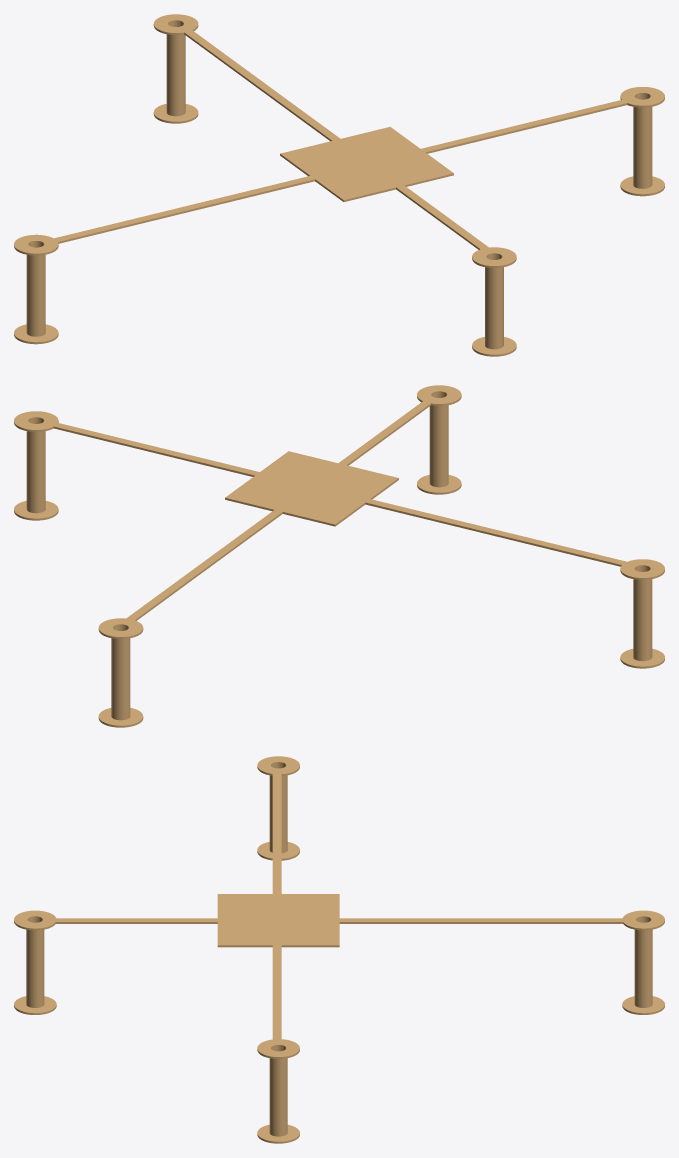
The model's file is board.glb.
3 views of the same model, one above another, from view 1: azimuth 30°, elevation 25°; view 2: azimuth 150°, elevation 25°; view 3: azimuth 270°, elevation 25° (orthographic). The views are drawn at different scales.
Parts seen in each view (by area): view 1: Unified_Net_5_Island_15, Unified_Net_8_Island_6, Bare_Via_Tube_4, Bare_Via_Tube_3, Bare_Via_Tube_2, Unified_Net_6_Island_12, Bare_Via_Tube_1, Unified_Net_7_Island_9, Unified_Net_1_Island_4, Unified_Net_4_Island_7, Unified_Net_3_Island_10, Unified_Net_2_Island_13 (+4 smaller); view 2: Unified_Net_5_Island_15, Unified_Net_8_Island_6, Bare_Via_Tube_3, Bare_Via_Tube_4, Bare_Via_Tube_1, Bare_Via_Tube_2, Unified_Net_6_Island_12, Unified_Net_7_Island_9, Unified_Net_4_Island_7, Unified_Net_2_Island_13, Unified_Net_1_Island_4, Unified_Net_3_Island_10 (+4 smaller); view 3: Unified_Net_5_Island_15, Unified_Net_6_Island_12, Bare_Via_Tube_3, Bare_Via_Tube_1, Bare_Via_Tube_2, Unified_Net_8_Island_6, Unified_Net_7_Island_9, Bare_Via_Tube_4, Unified_Net_1_Island_4, Unified_Net_3_Island_10, Unified_Net_2_Island_13, Unified_Net_4_Island_7.
Boxes of the visible parts, bbox=[...] form: Unified_Net_5_Island_15: bbox=[280, 127, 495, 253]; Unified_Net_8_Island_6: bbox=[43, 176, 314, 244]; Bare_Via_Tube_4: bbox=[26, 241, 45, 336]; Bare_Via_Tube_3: bbox=[633, 93, 652, 188]; Bare_Via_Tube_2: bbox=[166, 20, 185, 116]; Unified_Net_6_Island_12: bbox=[178, 25, 340, 141]; Bare_Via_Tube_1: bbox=[485, 253, 503, 349]; Unified_Net_7_Island_9: bbox=[421, 97, 637, 153]; Unified_Net_1_Island_4: bbox=[472, 247, 516, 267]; Unified_Net_4_Island_7: bbox=[14, 234, 58, 255]; Unified_Net_3_Island_10: bbox=[620, 87, 664, 107]; Unified_Net_2_Island_13: bbox=[153, 14, 198, 34]; Unified_Net_5_Island_15: bbox=[225, 396, 435, 526]; Unified_Net_8_Island_6: bbox=[365, 499, 638, 567]; Bare_Via_Tube_3: bbox=[26, 417, 45, 513]; Bare_Via_Tube_4: bbox=[633, 565, 652, 661]; Bare_Via_Tube_1: bbox=[429, 391, 448, 487]; Bare_Via_Tube_2: bbox=[111, 624, 130, 720]; Unified_Net_6_Island_12: bbox=[119, 510, 282, 624]; Unified_Net_7_Island_9: bbox=[43, 420, 259, 476]; Unified_Net_4_Island_7: bbox=[620, 559, 664, 579]; Unified_Net_2_Island_13: bbox=[98, 618, 143, 638]; Unified_Net_1_Island_4: bbox=[417, 385, 461, 405]; Unified_Net_3_Island_10: bbox=[14, 411, 58, 431]; Unified_Net_5_Island_15: bbox=[43, 894, 339, 947]; Unified_Net_6_Island_12: bbox=[339, 918, 635, 923]; Bare_Via_Tube_3: bbox=[269, 1045, 287, 1136]; Bare_Via_Tube_1: bbox=[26, 916, 44, 1007]; Bare_Via_Tube_2: bbox=[634, 916, 652, 1007]; Unified_Net_8_Island_6: bbox=[272, 768, 281, 893]; Unified_Net_7_Island_9: bbox=[272, 945, 281, 1044]; Bare_Via_Tube_4: bbox=[269, 762, 287, 853]; Unified_Net_1_Island_4: bbox=[14, 910, 56, 930]; Unified_Net_3_Island_10: bbox=[257, 1039, 299, 1058]; Unified_Net_2_Island_13: bbox=[622, 910, 664, 930]; Unified_Net_4_Island_7: bbox=[257, 756, 299, 775].
Size of the model in its own units: 0.0117 by 0.00157 by 0.0107.
